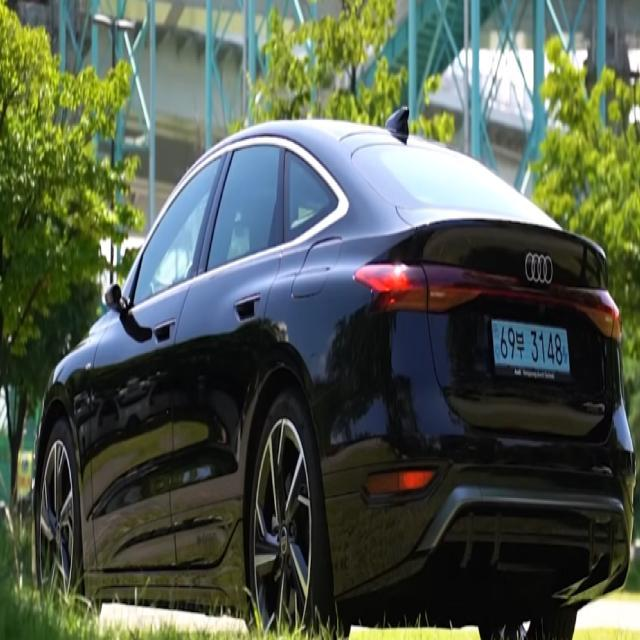car: (483, 294, 583, 394)
carev: (488, 313, 502, 372), (560, 321, 573, 378)
